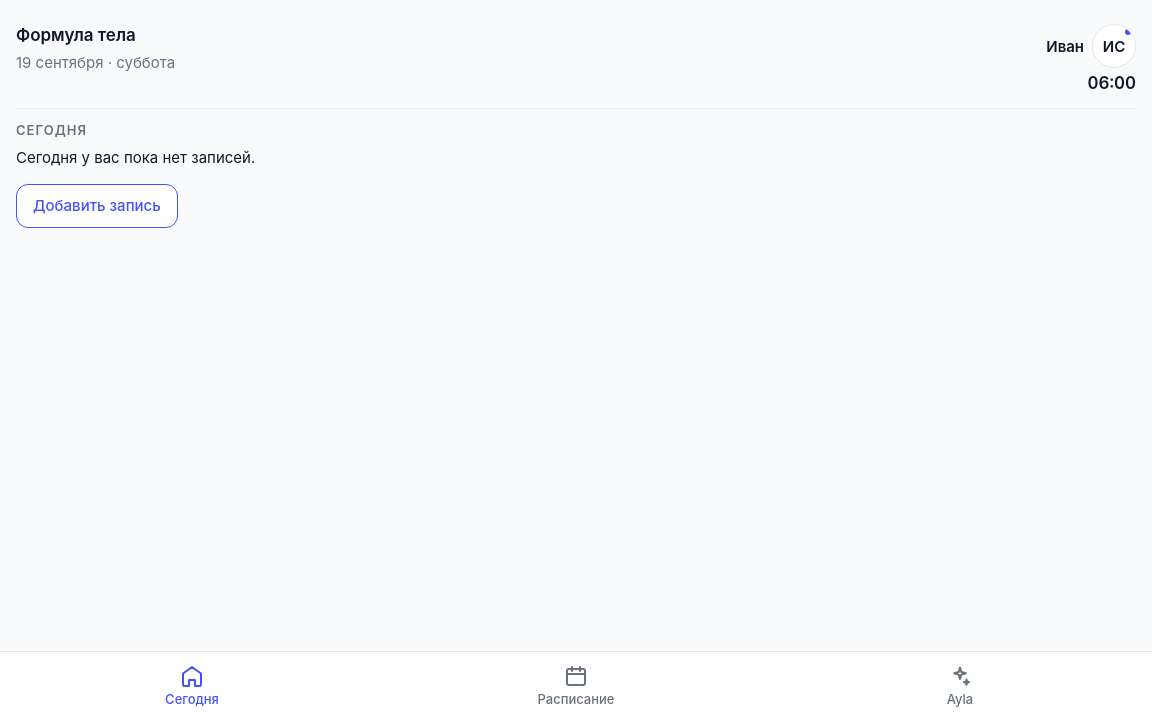
Test: аватар мастера на всех трёх разделах (DRF-2121, §28 п.3) › пункт profile ведёт на свой экран
Click the button with aria-label "Меню профиля".
click(1114, 46)  # box [1092,24,1136,68]
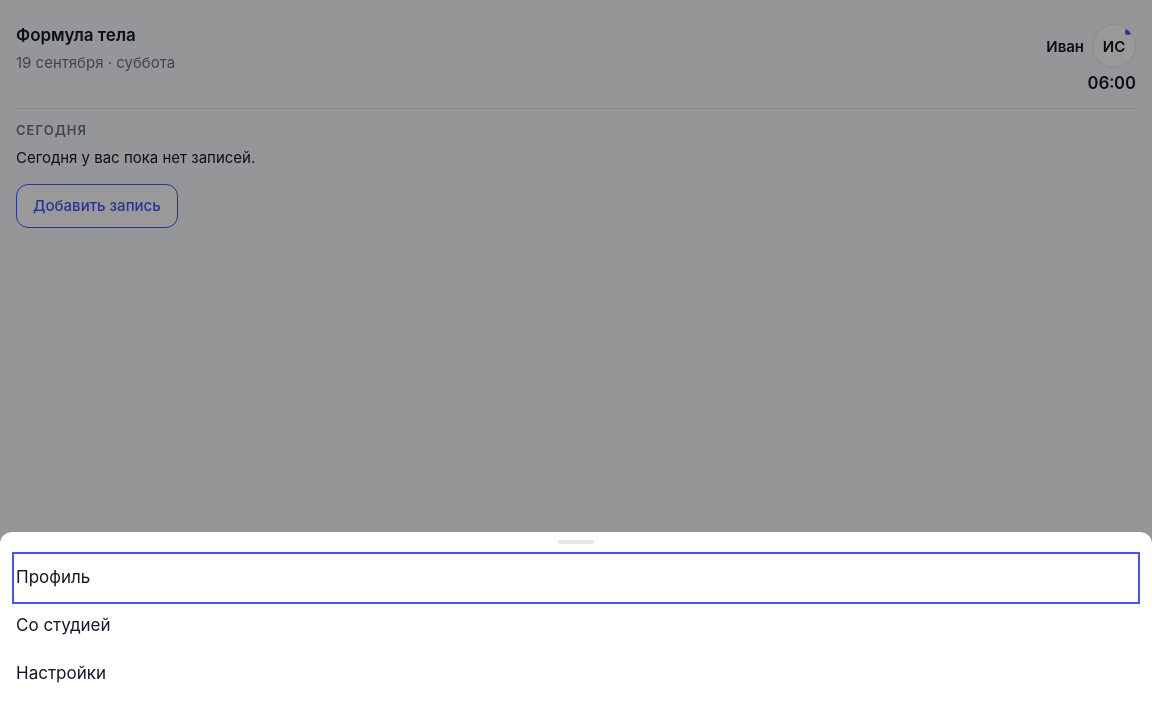
Click the button "Профиль".
click(53, 577)  # box [16,556,1136,600]
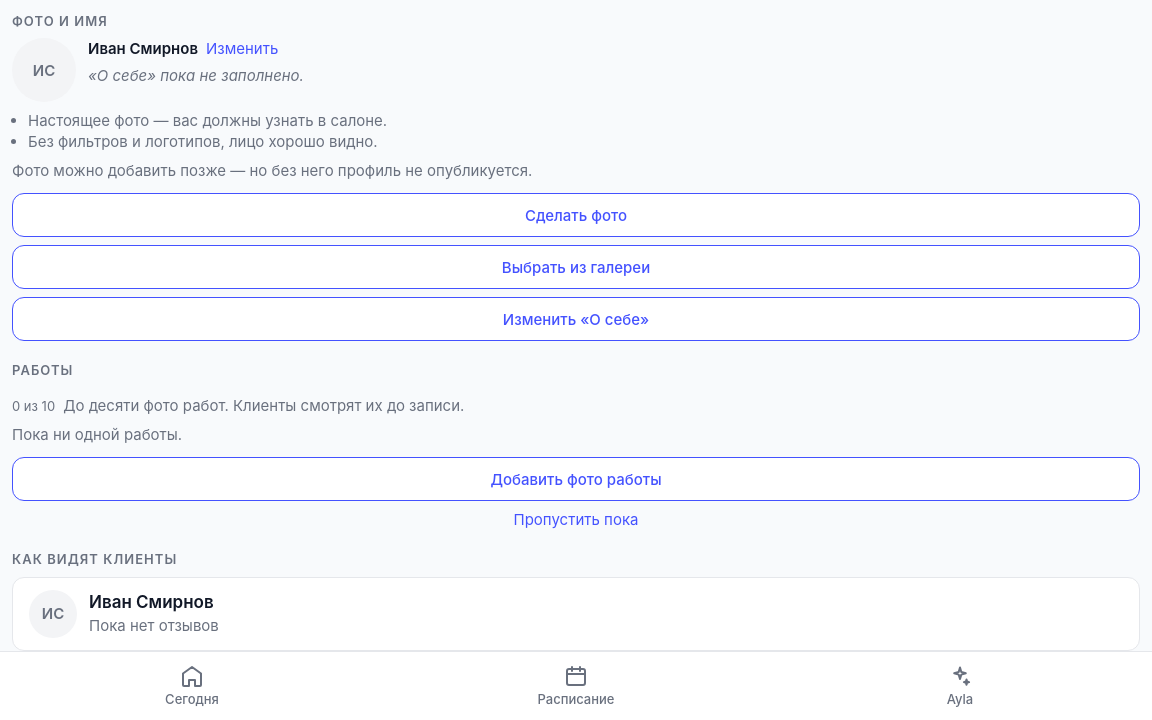
Result: the heading "Фото и имя" is shown at [12,13,108,29]
